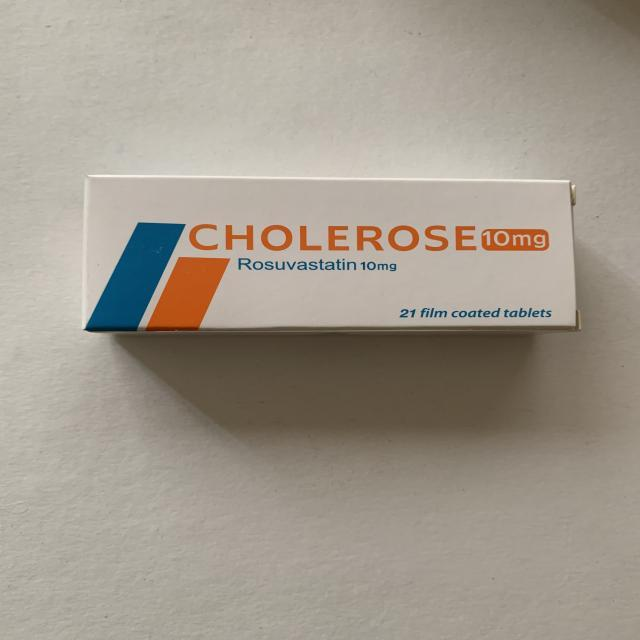Medicine Name: (186, 214, 484, 258)
